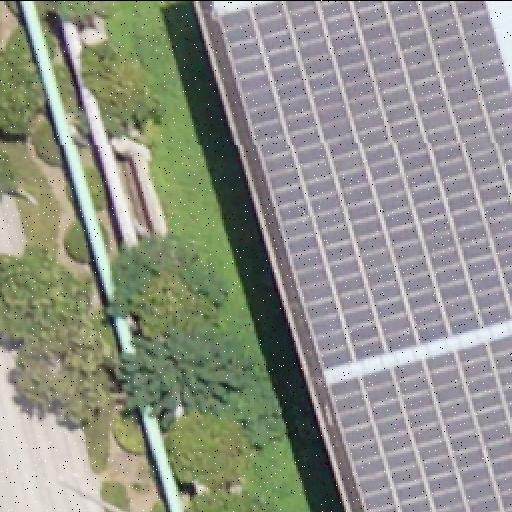solar-panel: (224, 0, 512, 368), (326, 329, 512, 511)
